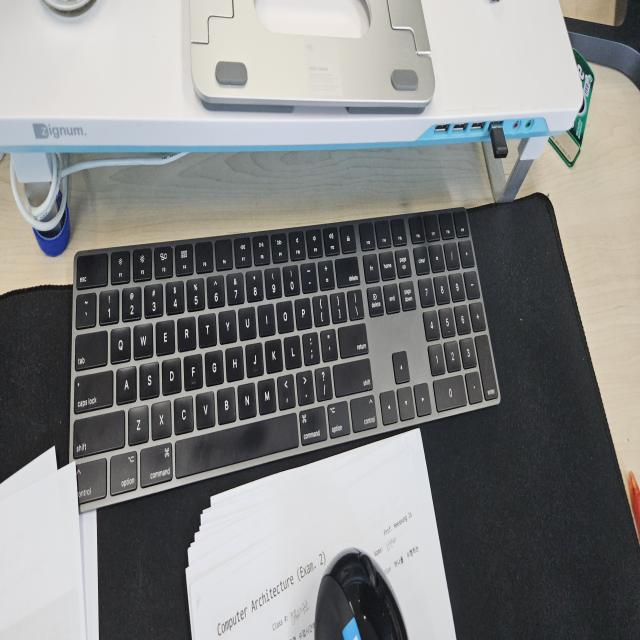Keyboard: (68, 205, 502, 512)
Mouse: (313, 544, 409, 638)
